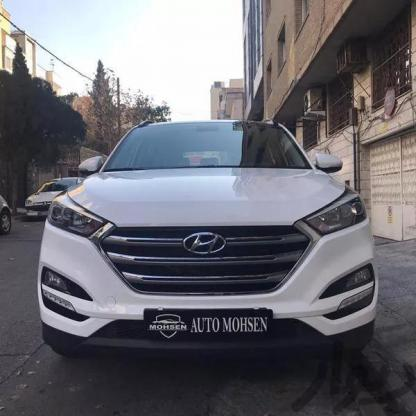Car: (29, 111, 381, 354), (25, 180, 87, 218)
